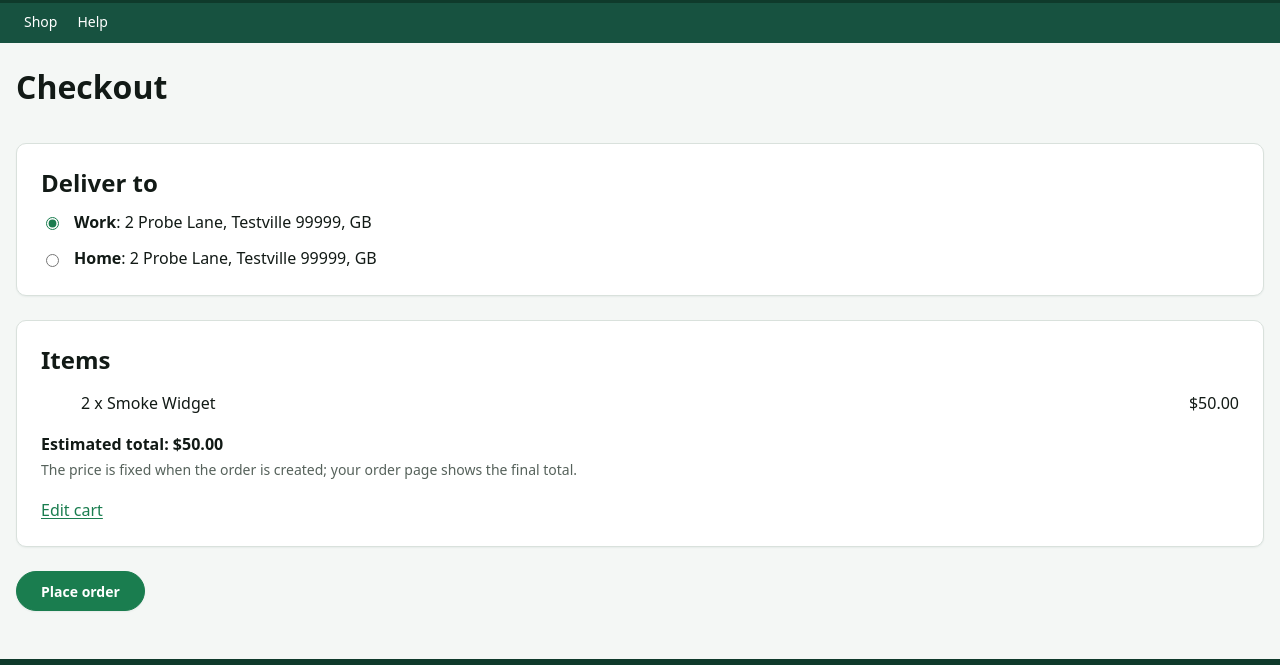
Test: the Idempotency-Key on POST /api/v1/orders › on a 409 keeps the key, says nothing was ordered twice, and never silently re-posts
Click the button "Place order" at (80, 592), box [16,572,145,612]
(page scrolled)
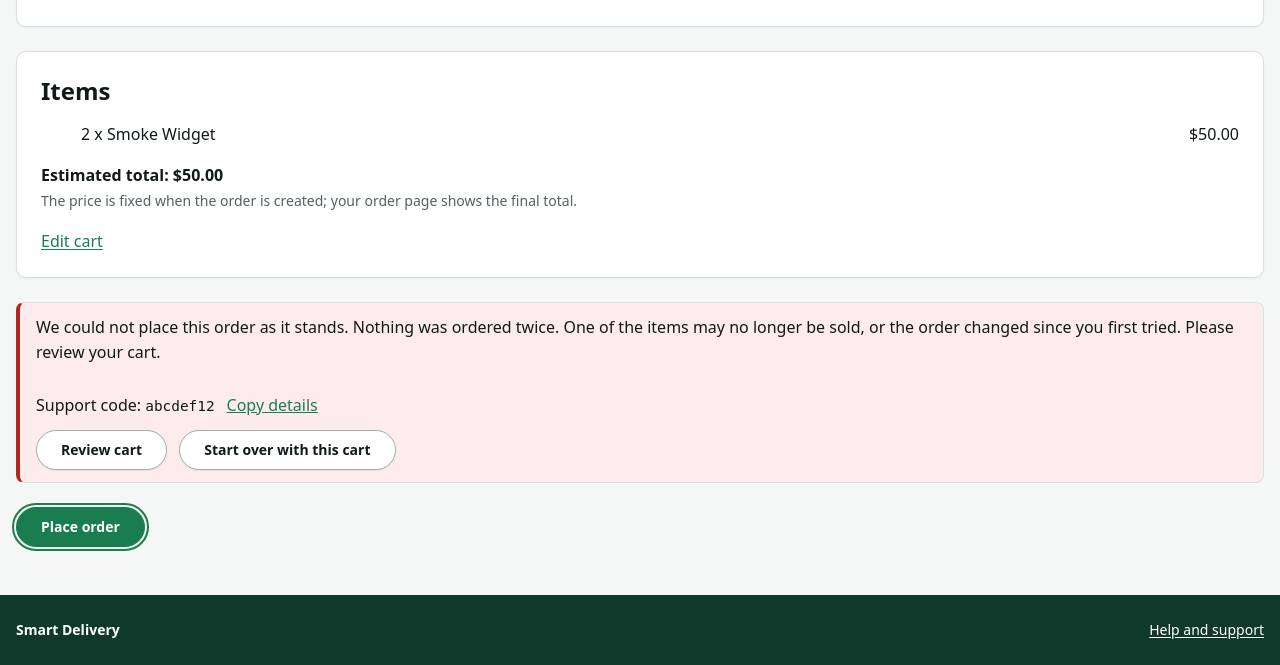
Result: the text "Nothing was ordered twice" is shown at [36,316,1234,363]
Result: the text "abcdef12" is shown at [145,398,215,414]
